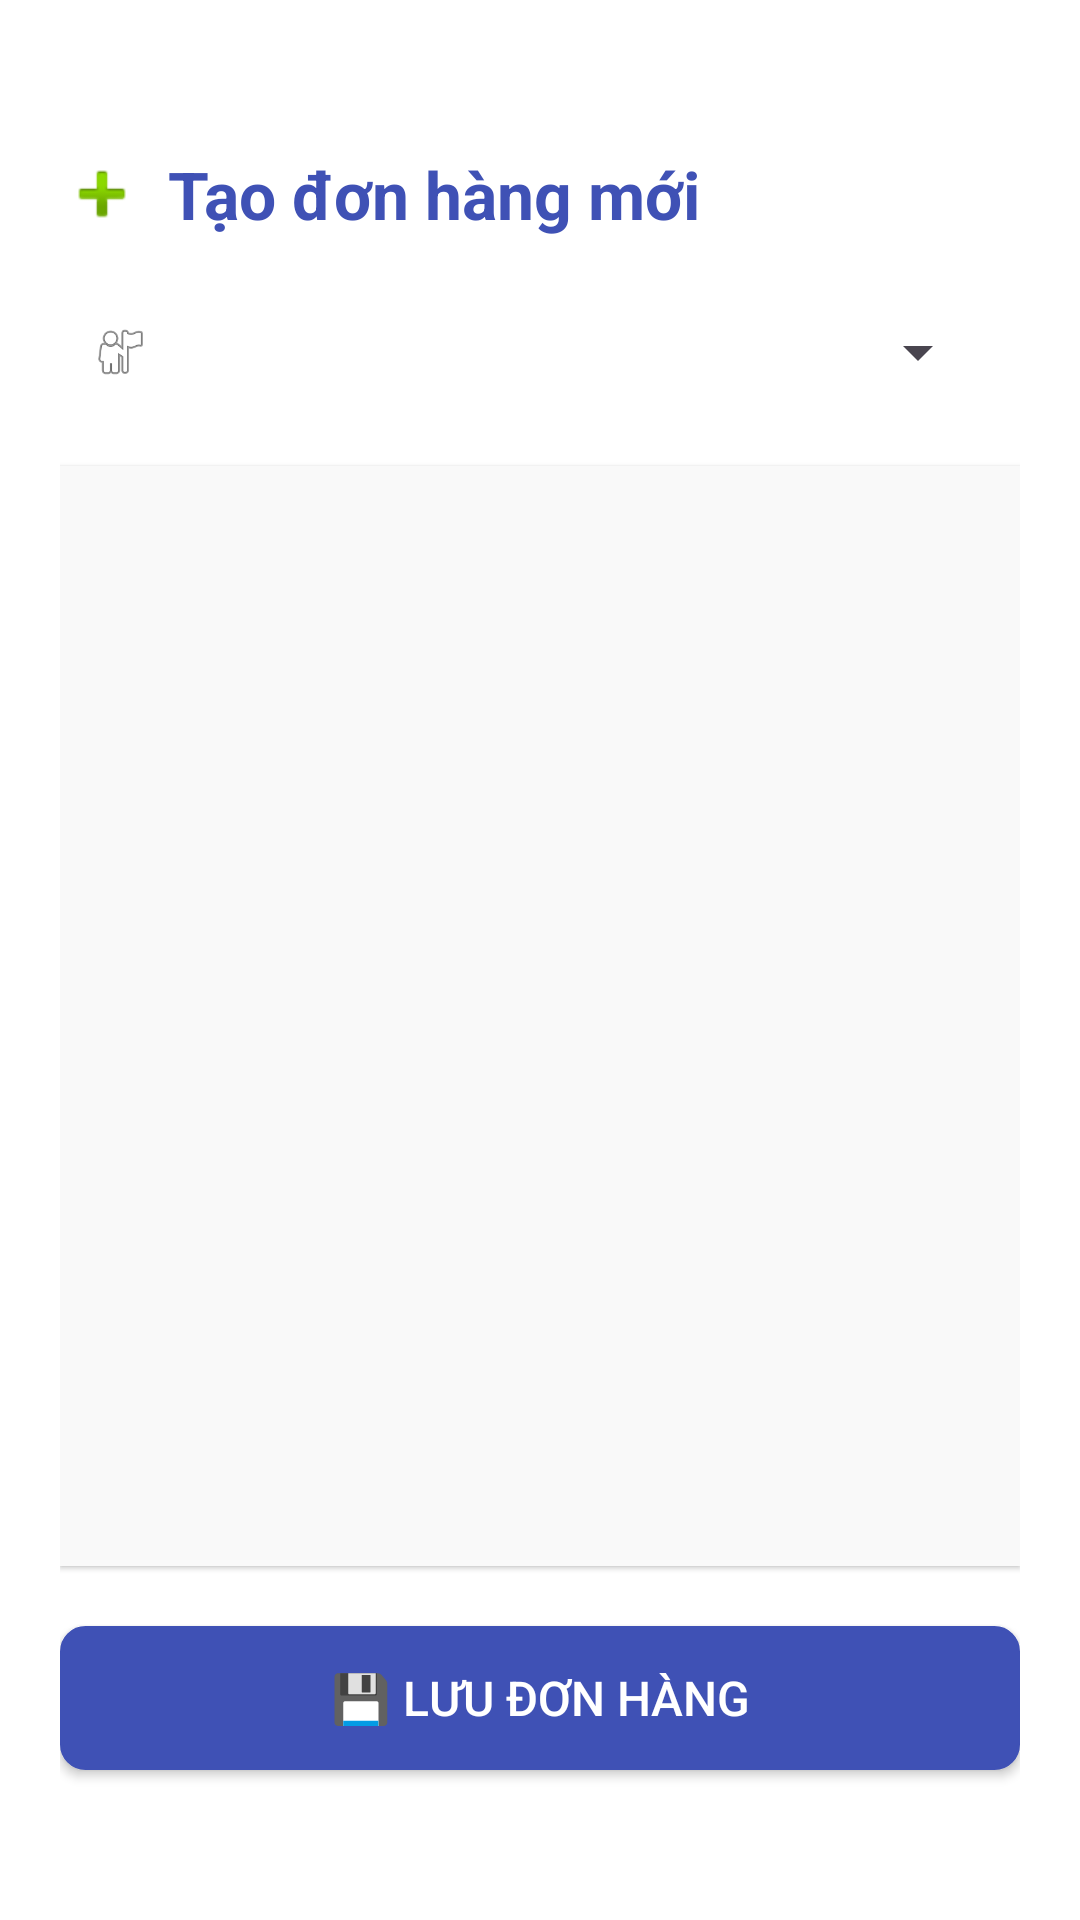

Icon bounding boxes for this 1080 x 1920 phone screenshot, format (x1, y1, x2, y2):
add: (78, 170, 126, 218)
